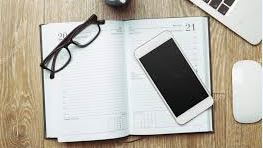mobil: (133, 28, 214, 125)
